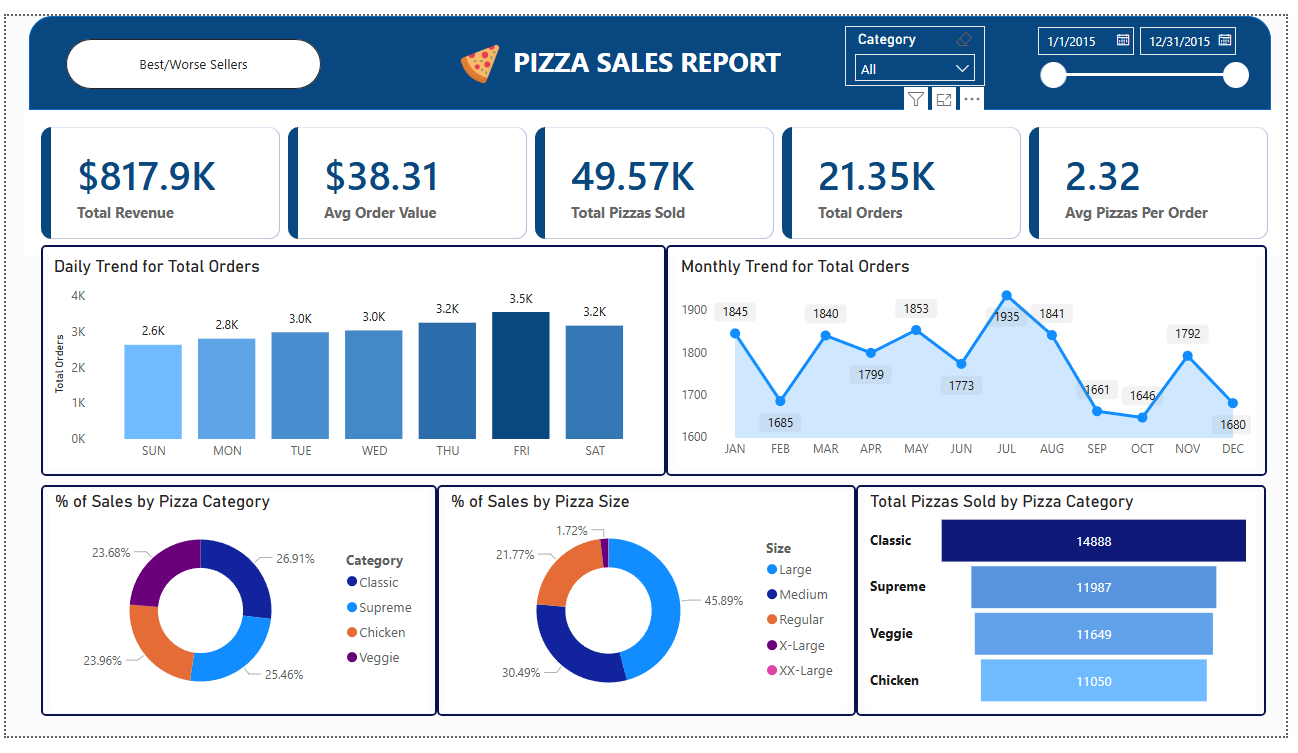

The page's visual inventory and layout, read from the dashboard file:
{"tool":"powerbi","page":{"name":"Home","canvas":[1280,720],"ordinal":0},"visuals":[{"type":"shape","box":[431.2,468.8,418.8,231.2],"z":0},{"type":"shape","box":[35,468.8,396.2,231.2],"z":1000},{"type":"cardVisual","fields":{"Data":["pizza_sales.Total Revenue","pizza_sales.Avg Order Value","pizza_sales.Total Pizzas Sold","pizza_sales.Total Orders","pizza_sales.Avg Pizzas Per Order"]},"box":[17.5,93.8,1262.5,146.2],"z":2000},{"type":"shape","box":[22.5,0,1242.5,93.8],"z":3000},{"type":"textbox","box":[473.2,21.8,336,52],"z":4000},{"type":"image","box":[441.2,27.5,65,40],"z":5000},{"type":"shape","box":[35,228.8,625,231.2],"z":6000},{"type":"shape","box":[660,228.8,601.2,231.2],"z":7000},{"type":"areaChart","title":"Monthly Trend for Total Orders","fields":{"Category":["pizza_sales.Order Month"],"Y":["pizza_sales.Total Orders"]},"box":[670,240,580,211.2],"z":8000},{"type":"columnChart","title":"Daily Trend for Total Orders","fields":{"Category":["pizza_sales.Order Day"],"Y":["pizza_sales.Total Orders"]},"box":[42.5,240,610,212.5],"z":9000},{"type":"shape","box":[850,468.8,410,231.2],"z":10000},{"type":"donutChart","title":"% of Sales by Pizza Category","fields":{"Category":["pizza_sales.pizza_category"],"Y":["pizza_sales.Total Revenue"]},"box":[43.8,475,377.5,220],"z":11000},{"type":"donutChart","title":"% of Sales by Pizza Size","fields":{"Y":["pizza_sales.Total Revenue"],"Category":["pizza_sales.pizza_size"]},"box":[440,475,401.2,220],"z":12000},{"type":"funnel","title":"Total Pizzas Sold by Pizza Category","fields":{"Category":["pizza_sales.pizza_category"],"Y":["pizza_sales.Total Pizzas Sold"]},"box":[858.8,475,391.2,220],"z":13000},{"type":"slicer","fields":{"Values":["pizza_sales.pizza_category"]},"box":[838.8,10,140,60],"z":14000},{"type":"slicer","fields":{"Values":["pizza_sales.order_date"]},"box":[1018.8,1.2,232.5,90],"z":15000},{"type":"pageNavigator","box":[60,22.5,255,50],"z":15501}]}

Visuals, with their boxes on the page's 1280x720 design canvas (x1, y1, x2, y2). These are canvas units, not pixel positions in the 1298x753 screenshot, which may show the page scaled, cropped or inside an application window:
shape: select_region(431, 469, 850, 700)
shape: select_region(35, 469, 431, 700)
cardVisual - pizza_sales.Total Revenue x pizza_sales.Avg Order Value: select_region(18, 94, 1280, 240)
shape: select_region(22, 0, 1265, 94)
textbox: select_region(473, 22, 809, 74)
image: select_region(441, 28, 506, 68)
shape: select_region(35, 229, 660, 460)
shape: select_region(660, 229, 1261, 460)
"Monthly Trend for Total Orders" areaChart: select_region(670, 240, 1250, 451)
"Daily Trend for Total Orders" columnChart: select_region(42, 240, 652, 452)
shape: select_region(850, 469, 1260, 700)
"% of Sales by Pizza Category" donutChart: select_region(44, 475, 421, 695)
"% of Sales by Pizza Size" donutChart: select_region(440, 475, 841, 695)
"Total Pizzas Sold by Pizza Category" funnel: select_region(859, 475, 1250, 695)
slicer - pizza_sales.pizza_category: select_region(839, 10, 979, 70)
slicer - pizza_sales.order_date: select_region(1019, 1, 1251, 91)
pageNavigator: select_region(60, 22, 315, 72)
